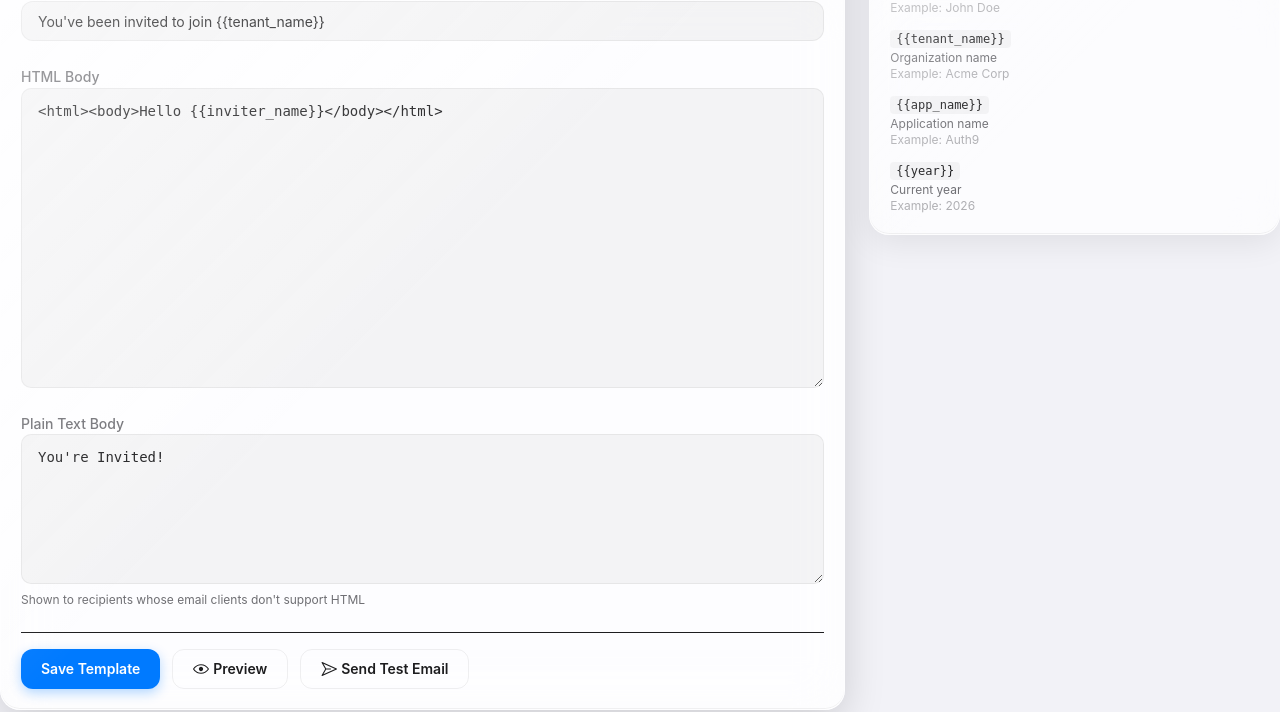
Test: Email Template Editor Page › closes send test email dialog when cancel button is clicked
(page scrolled)
// Open the dialog
Click the button "Send Test Email" at (385, 669), box [300,649,470,689]
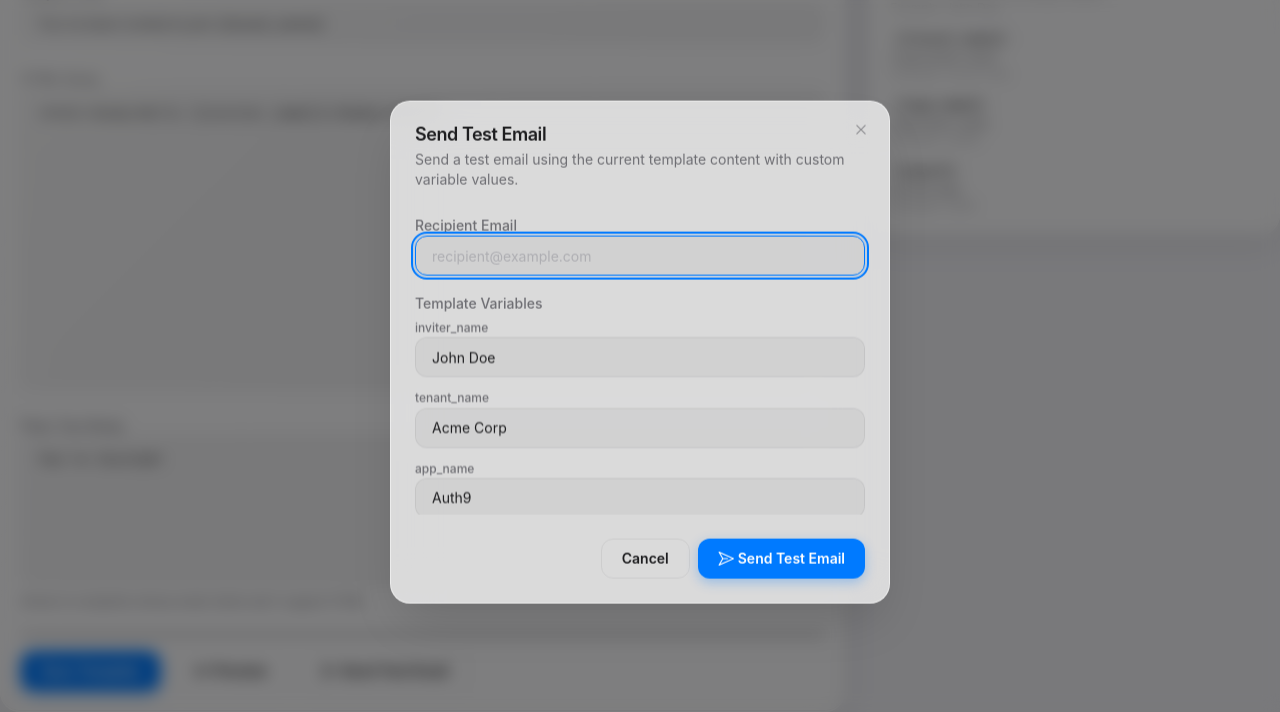
Result: the text "Recipient Email" is shown at [415,217,517,234]
Click the button "Cancel" at (645, 558), box [601,538,690,578]
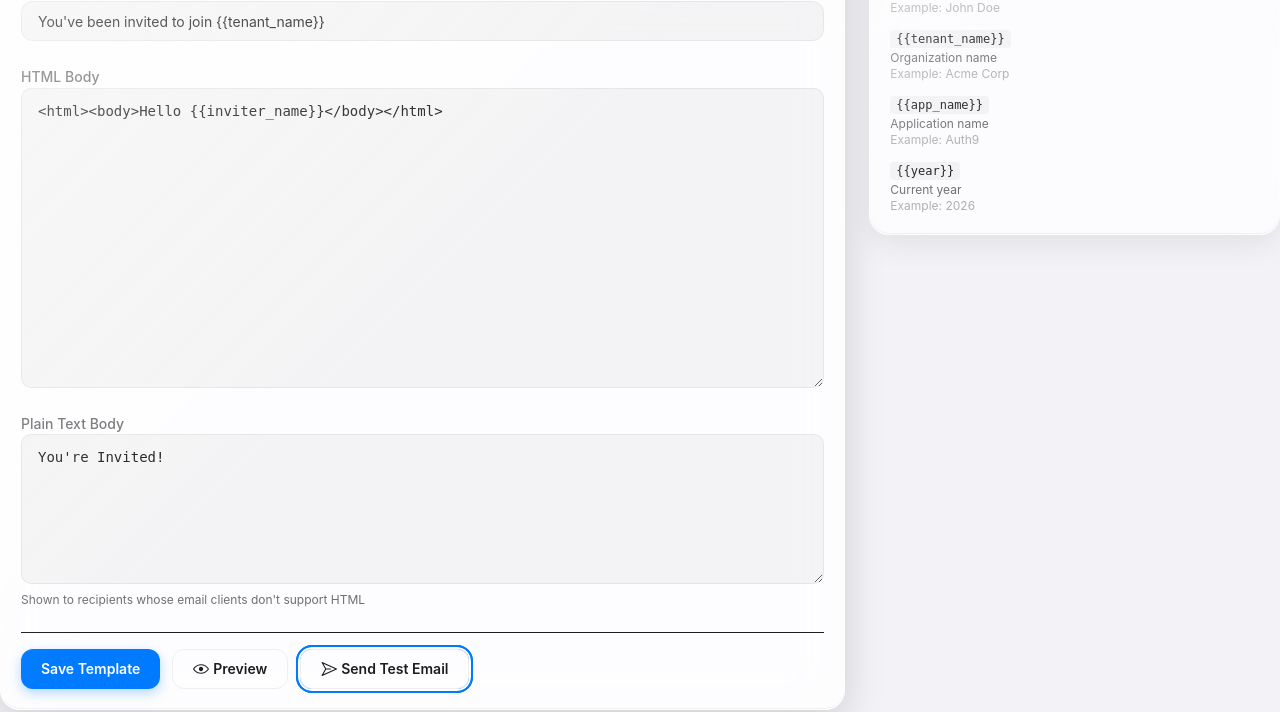
Result: the text "Recipient Email" is gone
